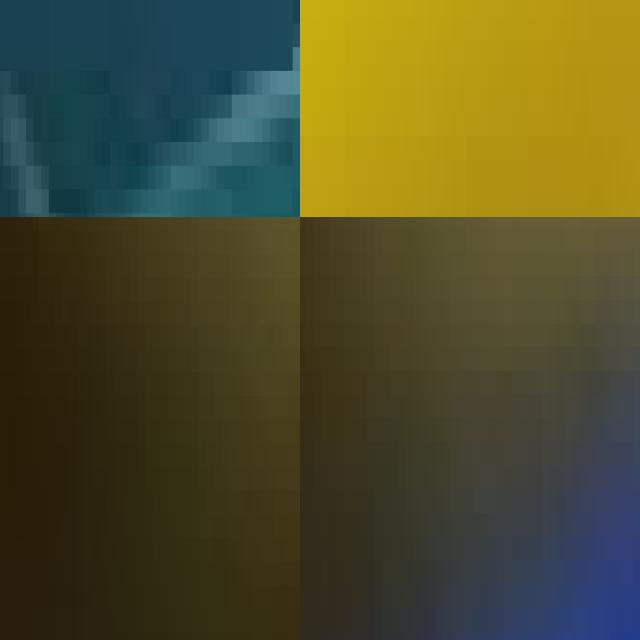fish: (300, 217, 640, 640), (0, 0, 300, 217)
